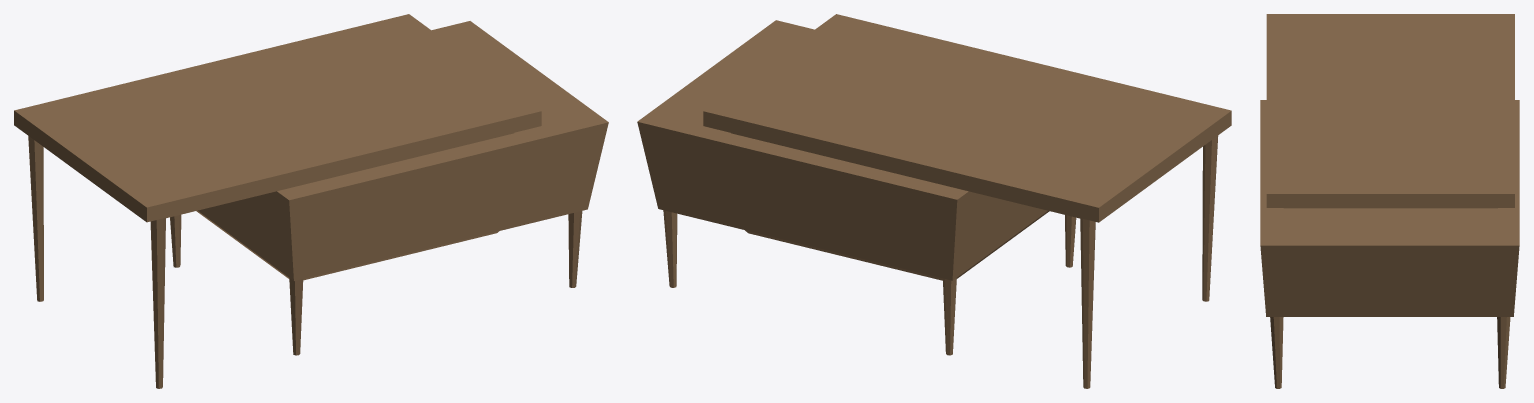
The model's file is PAST-Desk.fbx.
3 views of the same model, side by side, from view 1: azimuth 30°, elevation 25°; view 2: azimuth 150°, elevation 25°; view 3: azimuth 270°, elevation 25° (orthographic). The views are drawn at different scales.
Visible parts, largest first — view 1: PastDesk; view 2: PastDesk; view 3: PastDesk.
Part boxes in pixels (bbox=[...]): PastDesk: bbox=[14, 14, 608, 388]; PastDesk: bbox=[637, 14, 1231, 388]; PastDesk: bbox=[1260, 14, 1519, 388].
Size of the model in its own units: 560 by 221 by 293.
